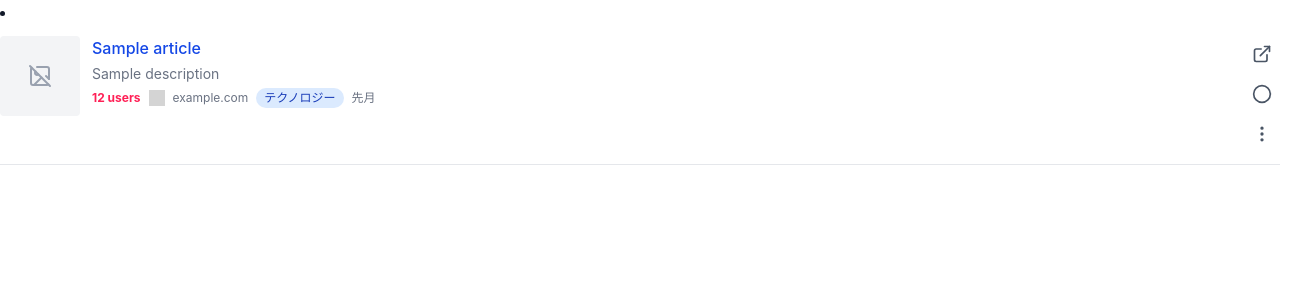
Test: overflow menu › opens with all three actions, and closes on outside click
Click the button named "その他の操作". click: coordinates (1262, 134)
box: [1244,116,1280,152]
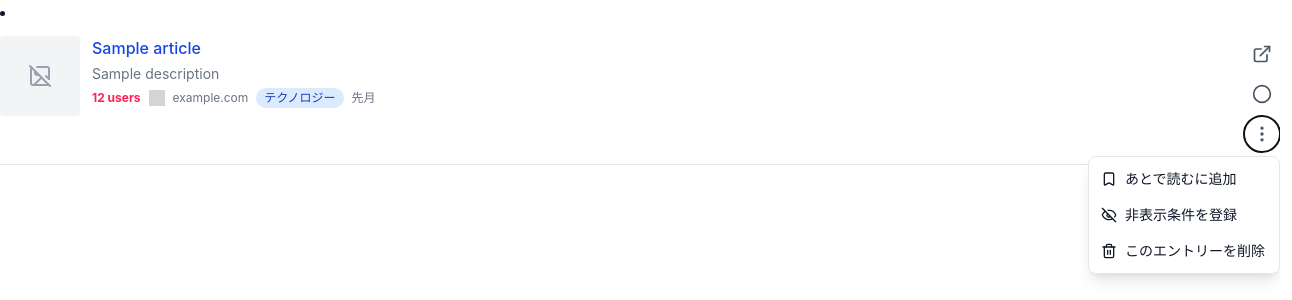
Expected: the menu is shown, [1088,156,1280,274]
Expected: the menu item "あとで読むに追加" is shown, [1089,161,1279,197]
Expected: the menu item "非表示条件を登録" is shown, [1089,197,1279,233]
Click the element that starts with "Sample article". click: coordinates (640, 82)
box: [0,0,1280,165]
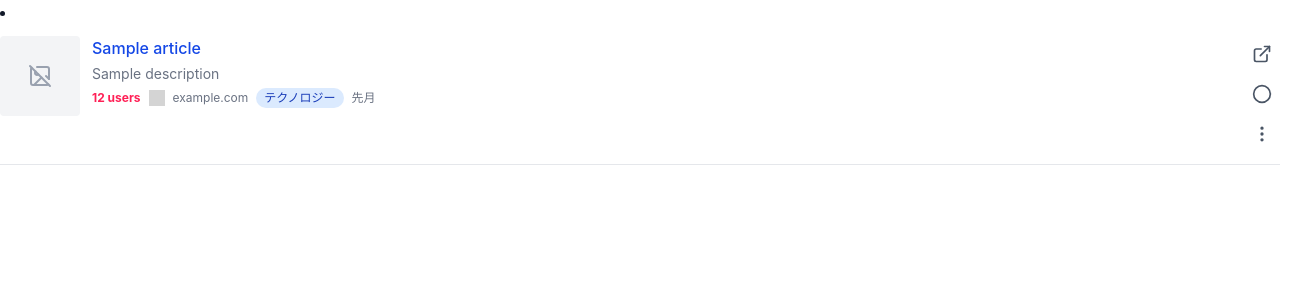
Expected: the menu is gone
